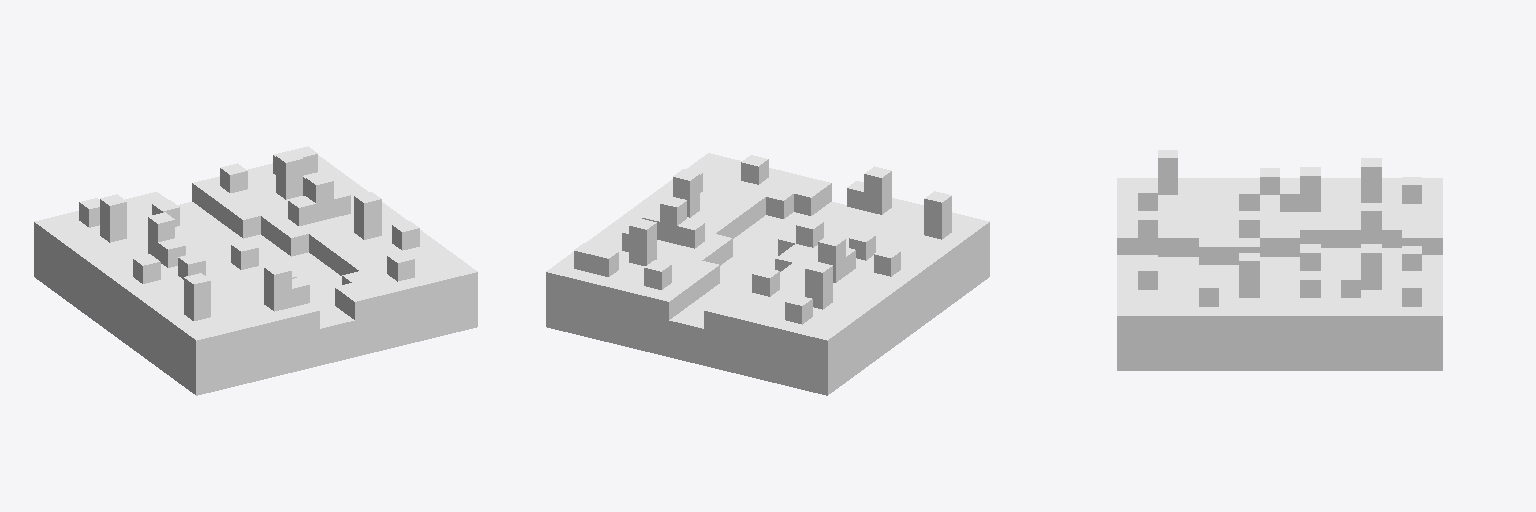
File: river2.obj
3 renders of one model, left to right at view 1: azimuth 30°, elevation 25°; view 2: azimuth 150°, elevation 25°; view 3: azimuth 270°, elevation 25°, orthographic.
Visible parts, largest first — view 1: CaveStraight2; view 2: CaveStraight2; view 3: CaveStraight2.
Part boxes in pixels (x1,y1,x2,y2): CaveStraight2: (34,146,477,395); CaveStraight2: (546,153,989,395); CaveStraight2: (1117,150,1442,370).
Size of the model in its own units: 16 by 5 by 16.